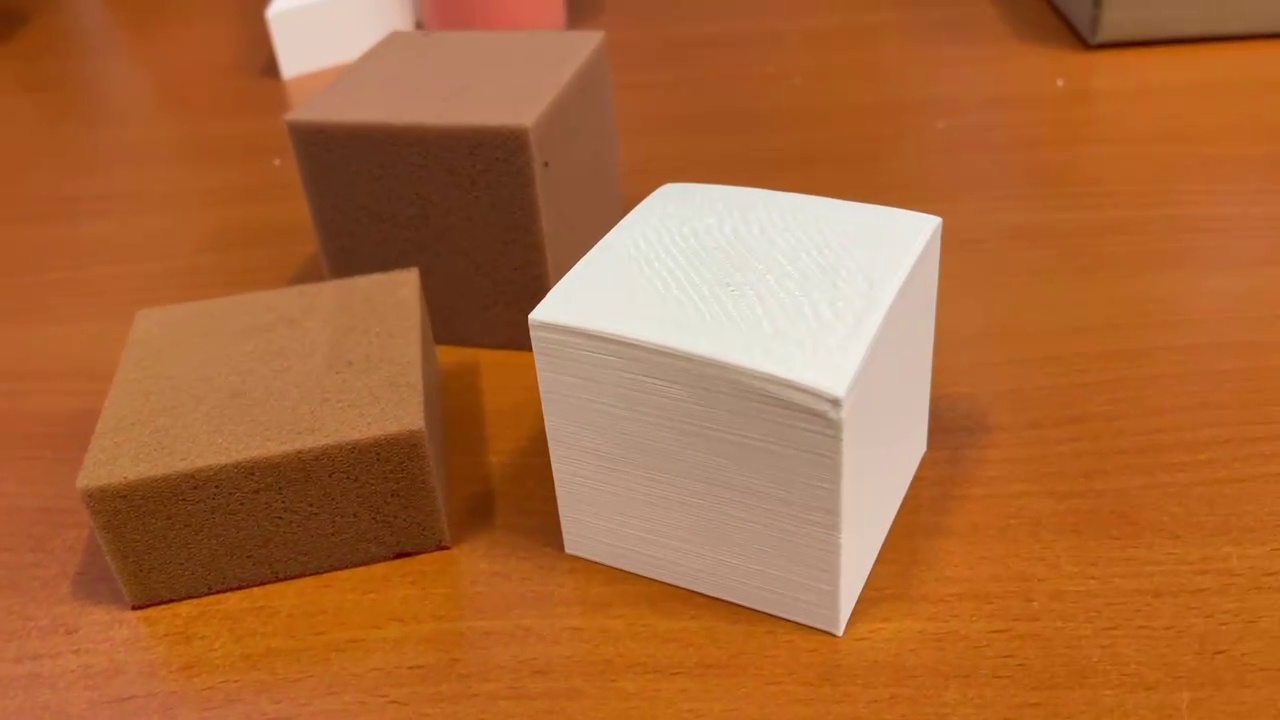Cube: (522, 168, 949, 645), (279, 24, 620, 350)
Cube_short: (71, 261, 459, 617)
